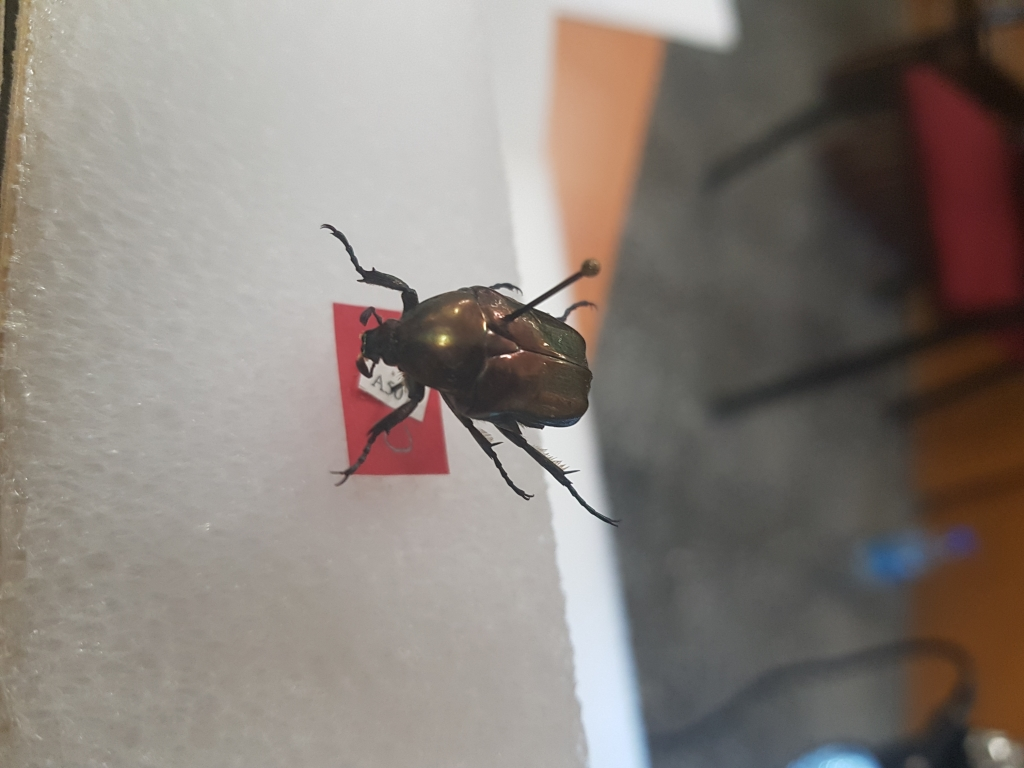Protaetia_besucheti: (312, 199, 647, 534)
